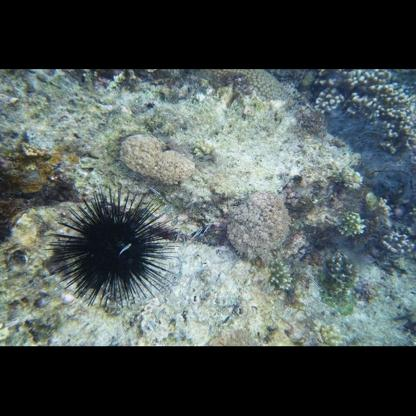urchin: (50, 187, 183, 299)
